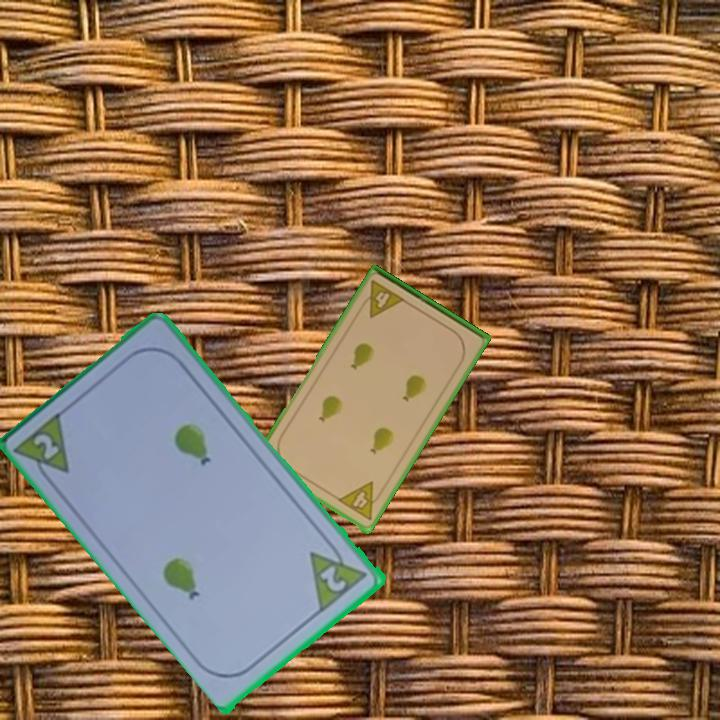2p: (30, 429, 64, 463), (317, 561, 350, 595)
4p: (334, 478, 387, 523), (356, 276, 408, 321)
